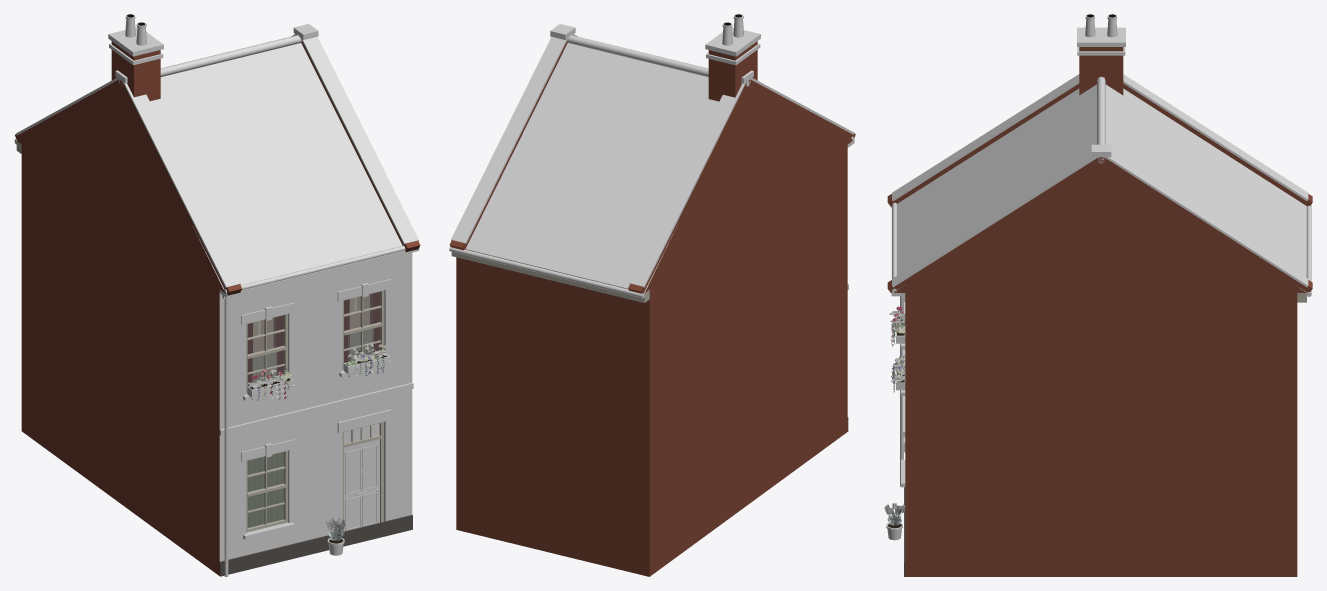
File: terrace_45.glb
3 renders of one model, left to right at view 1: azimuth 30°, elevation 25°; view 2: azimuth 150°, elevation 25°; view 3: azimuth 270°, elevation 25°, orthographic.
Visible parts, largest first — view 1: terrace_45; view 2: terrace_45; view 3: terrace_45.
Part boxes in pixels (bbox=[...]): terrace_45: bbox=[14, 14, 420, 576]; terrace_45: bbox=[449, 14, 855, 576]; terrace_45: bbox=[884, 14, 1312, 576].
Size of what is drawn, in the model's own units: 4.52 by 10.71 by 8.75.
